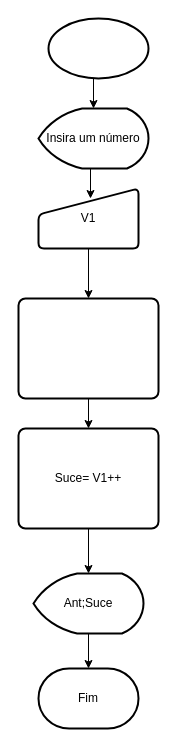
Some shapes in this 176 by 746 pixel diagram are drawn without their labels. Each missing label, with the centre of its shape:
Ant= V1--: [88,348]
Início: [98,48]
